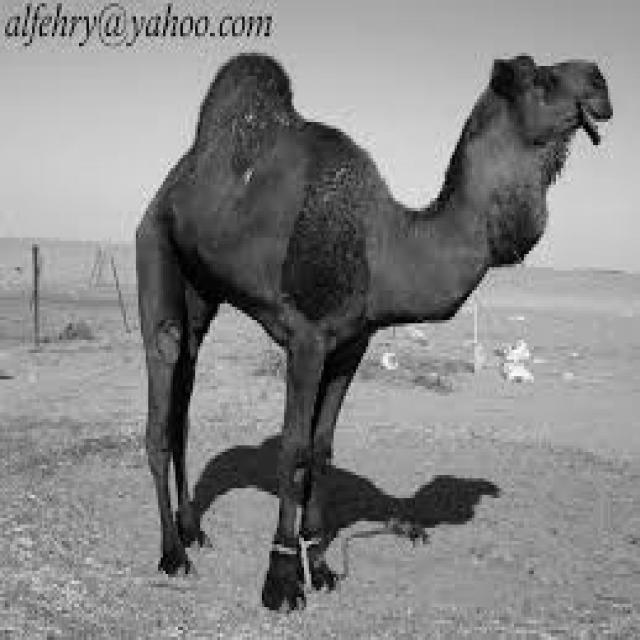Camel: (131, 46, 613, 610)
